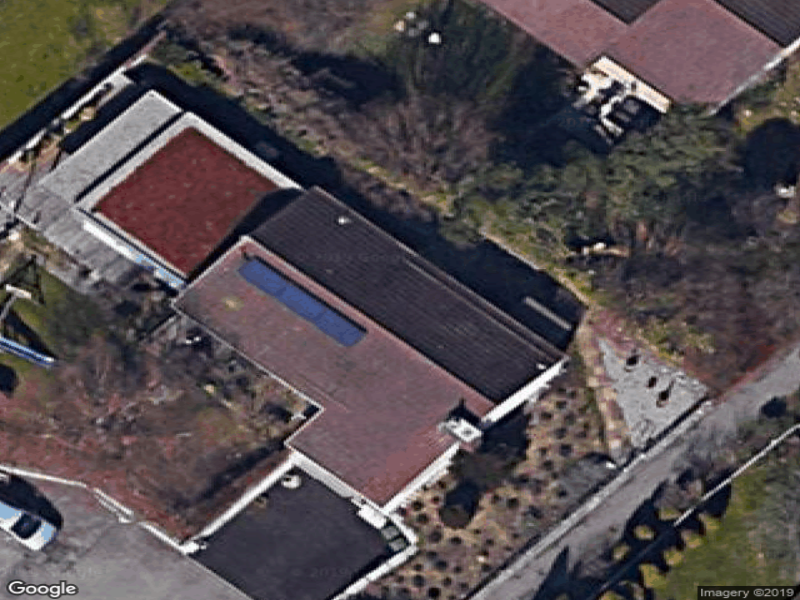pv: (241, 257, 370, 348)
